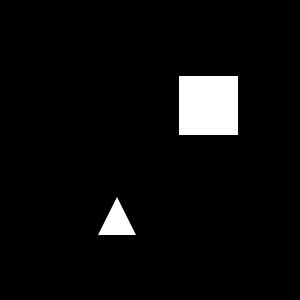circle: (179, 76, 238, 135)
triangle: (98, 197, 136, 235)
